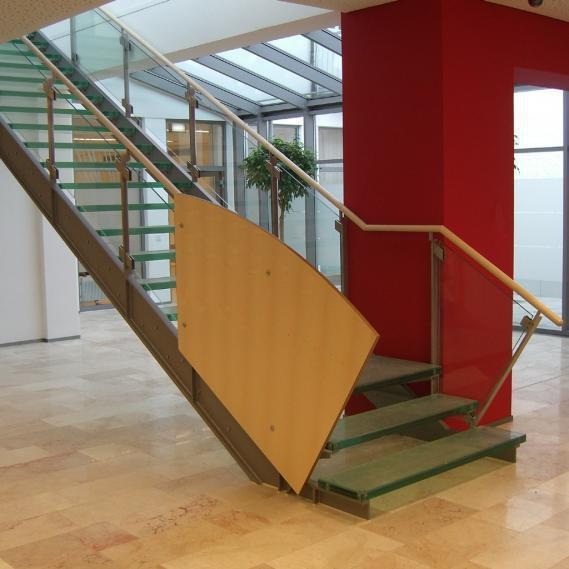Escaleras: (5, 38, 528, 513)
